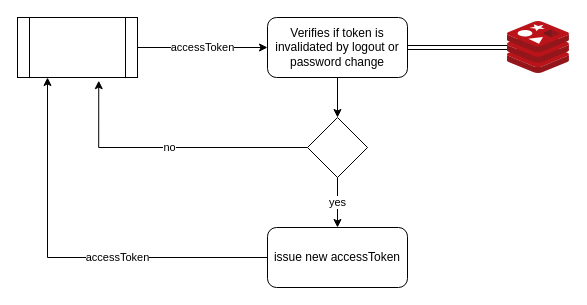
Image size: 587x305. Some labels were removed from this diagram. The box of each missing label's shape, as (x1, y1, x2, y2) in pixels:
refresh: (16, 16, 138, 78)
valid: (306, 116, 368, 178)
